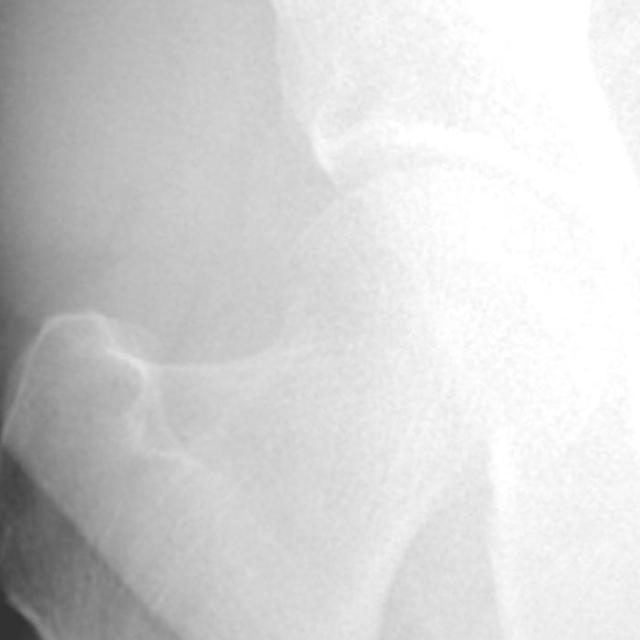Fitted_femural_head: (330, 159, 432, 330)
